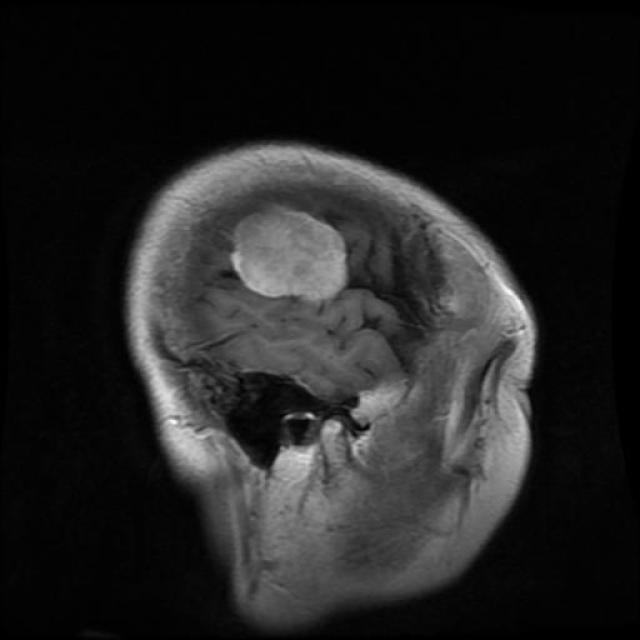meningioma: (230, 193, 364, 329)
